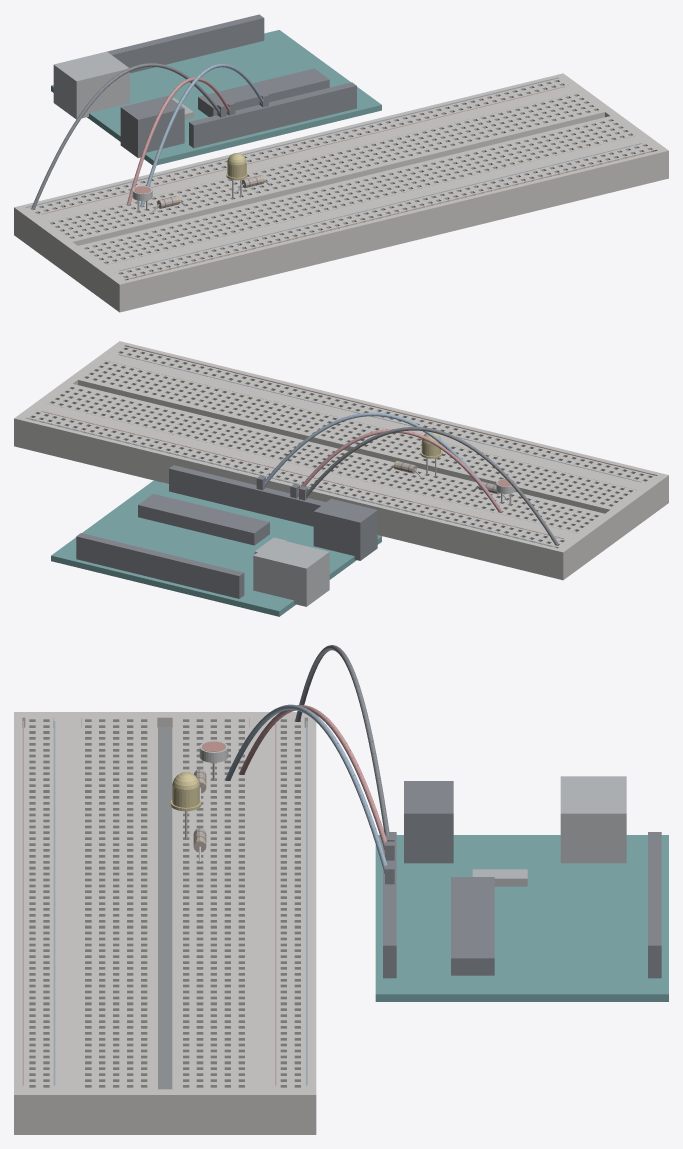
File: step-7.glb
3 views of the same model, one above another, from view 1: azimuth 30°, elevation 25°; view 2: azimuth 150°, elevation 25°; view 3: azimuth 270°, elevation 25° (orthographic). The views are drawn at different scales.
Visible parts, largest first — view 1: bb__mesh, uno__mesh, w_gnd_rail__mesh, w_a0__mesh, w_5v__mesh, led_yellow__mesh; view 2: bb__mesh, uno__mesh, w_gnd_rail__mesh, w_a0__mesh, w_5v__mesh, led_yellow__mesh; view 3: bb__mesh, uno__mesh, w_a0__mesh, w_gnd_rail__mesh, w_5v__mesh, led_yellow__mesh.
Boxes of the visible parts, x1=… form: bb__mesh: x1=14, y1=73, x2=668, y2=312; uno__mesh: x1=51, y1=14, x2=381, y2=165; w_gnd_rail__mesh: x1=31, y1=63, x2=226, y2=209; w_a0__mesh: x1=140, y1=63, x2=268, y2=206; w_5v__mesh: x1=127, y1=77, x2=235, y2=204; led_yellow__mesh: x1=226, y1=153, x2=247, y2=198; bb__mesh: x1=14, y1=341, x2=668, y2=580; uno__mesh: x1=51, y1=465, x2=381, y2=616; w_gnd_rail__mesh: x1=299, y1=427, x2=558, y2=545; w_a0__mesh: x1=256, y1=412, x2=497, y2=503; w_5v__mesh: x1=290, y1=429, x2=501, y2=512; led_yellow__mesh: x1=420, y1=432, x2=442, y2=477; bb__mesh: x1=14, y1=712, x2=316, y2=1134; uno__mesh: x1=375, y1=776, x2=668, y2=1001; w_a0__mesh: x1=225, y1=704, x2=394, y2=884; w_gnd_rail__mesh: x1=295, y1=645, x2=394, y2=841; w_5v__mesh: x1=239, y1=705, x2=394, y2=860; led_yellow__mesh: x1=170, y1=772, x2=201, y2=838.
Bounding box in the file's own units: 0.165 × 0.037 × 0.1192.
